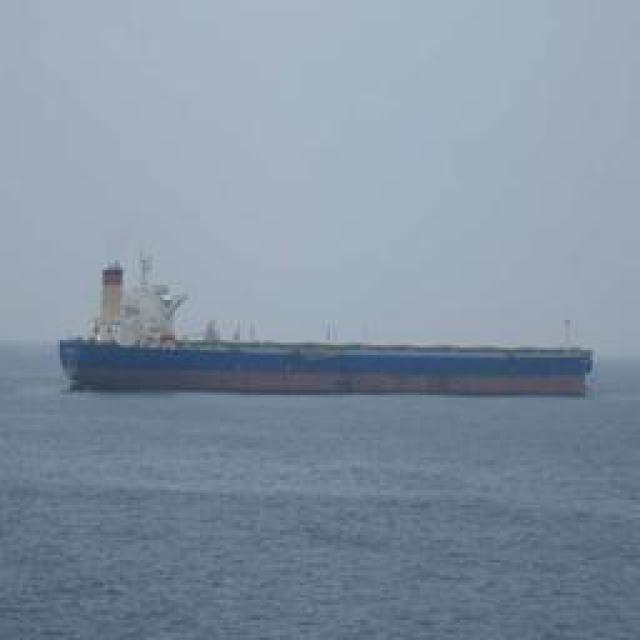Ship: (76, 326, 604, 394)
